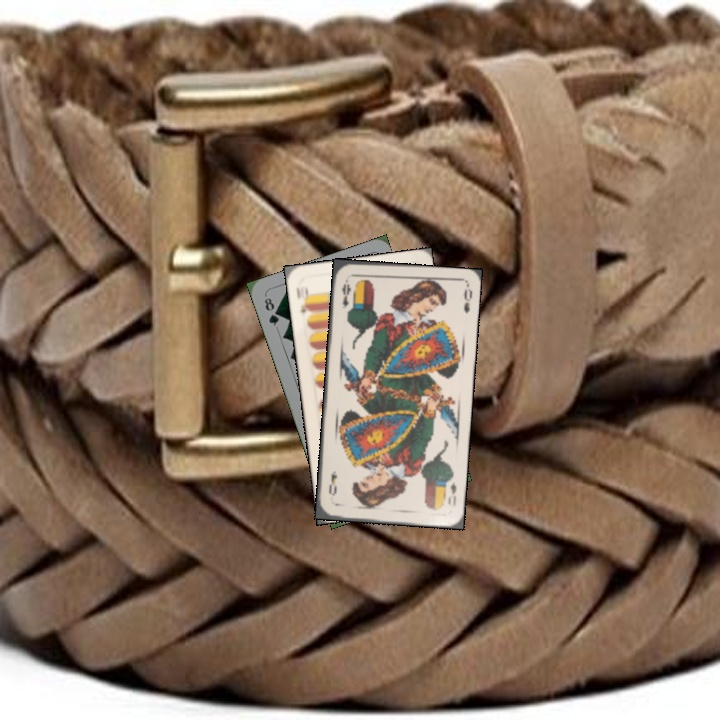E10: (292, 281, 313, 316)
EO: (337, 275, 353, 311), (444, 477, 459, 508)
G8: (260, 293, 282, 329)
